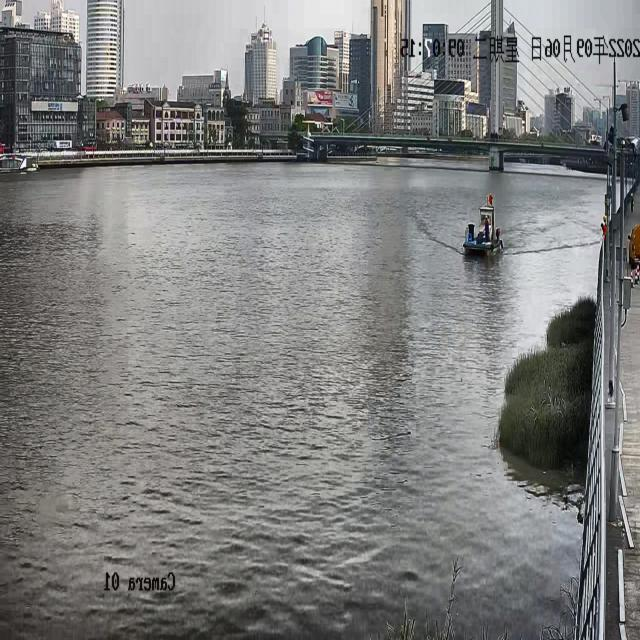ship: (462, 188, 502, 255)
